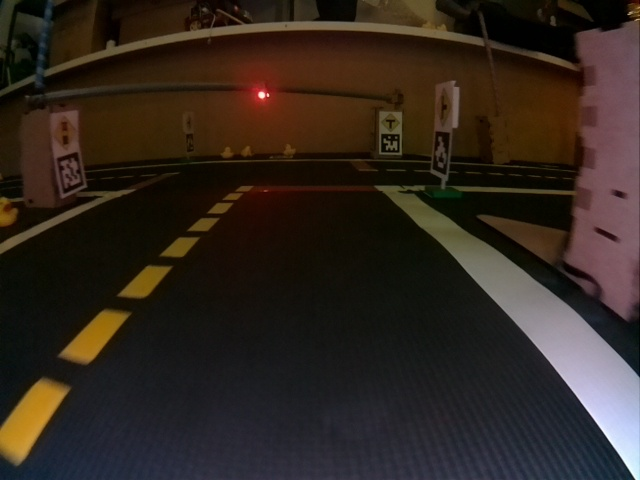Duckie: (1, 198, 18, 225), (283, 144, 295, 156), (241, 146, 253, 157), (220, 147, 229, 158)
Intersection sign: (436, 87, 451, 126), (381, 113, 400, 131)
QR code: (56, 153, 84, 192), (433, 131, 447, 176), (381, 134, 400, 153), (185, 133, 194, 152)
Signal sign: (54, 115, 76, 152)
